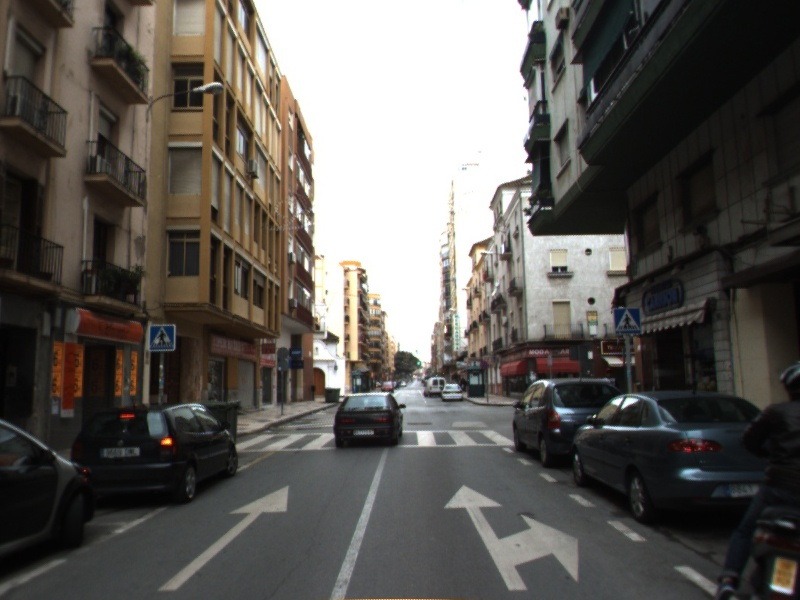STRAIGHT: (157, 484, 290, 592)
STRAIGHT_RIGHT: (442, 483, 580, 592)
